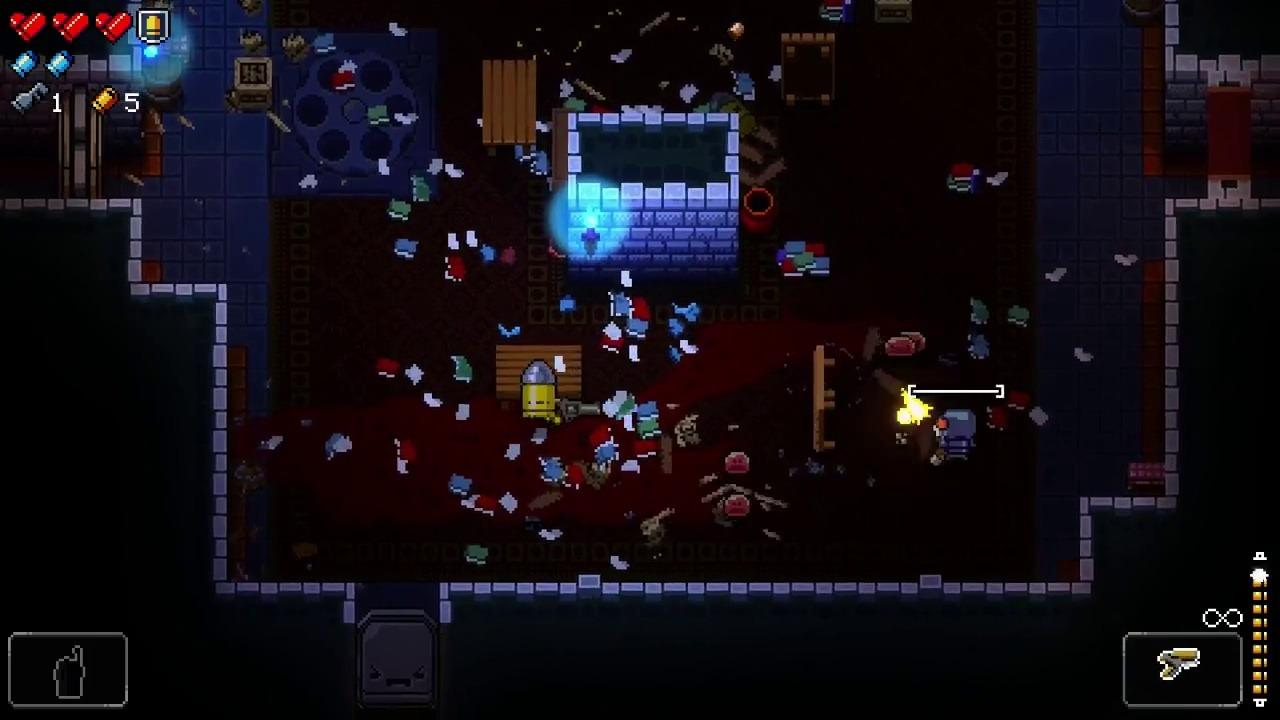blobulin_s: (899, 330, 927, 354), (884, 335, 914, 357), (724, 451, 749, 476), (724, 495, 751, 517)
bullet_kin: (522, 360, 559, 425)
locked_door: (357, 609, 439, 711), (55, 84, 103, 200)
player: (938, 411, 977, 465)
table: (495, 345, 582, 410), (484, 60, 537, 157), (782, 32, 837, 109), (813, 344, 839, 451)
teleporter: (267, 33, 438, 201)
wall: (568, 112, 740, 280)
